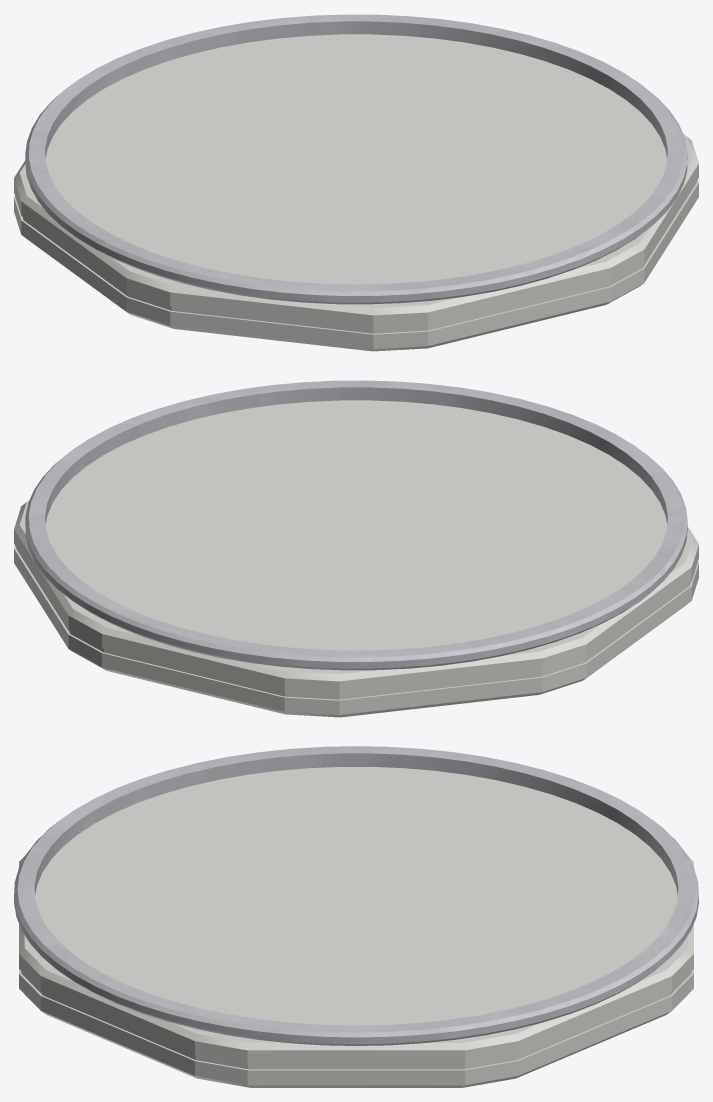
File: ax_struct_14_multi_mount_l_x3.glb
The picture shows the model from 3 angles, top to bottom: view 1: azimuth 30°, elevation 25°; view 2: azimuth 150°, elevation 25°; view 3: azimuth 270°, elevation 25°; orthographic projection. The views are drawn at different scales.
Visible parts, largest first — view 1: mount_plate, top_ring; view 2: mount_plate, top_ring; view 3: mount_plate, top_ring.
Boxes of the visible parts, x1=… form: mount_plate: x1=14, y1=34, x2=698, y2=351; top_ring: x1=25, y1=14, x2=687, y2=304; mount_plate: x1=14, y1=400, x2=698, y2=717; top_ring: x1=25, y1=380, x2=687, y2=670; mount_plate: x1=19, y1=767, x2=693, y2=1087; top_ring: x1=14, y1=746, x2=698, y2=1045.
Size of the model in its own units: 3.75 by 0.436 by 3.75.
2 materials, 1 textured.
